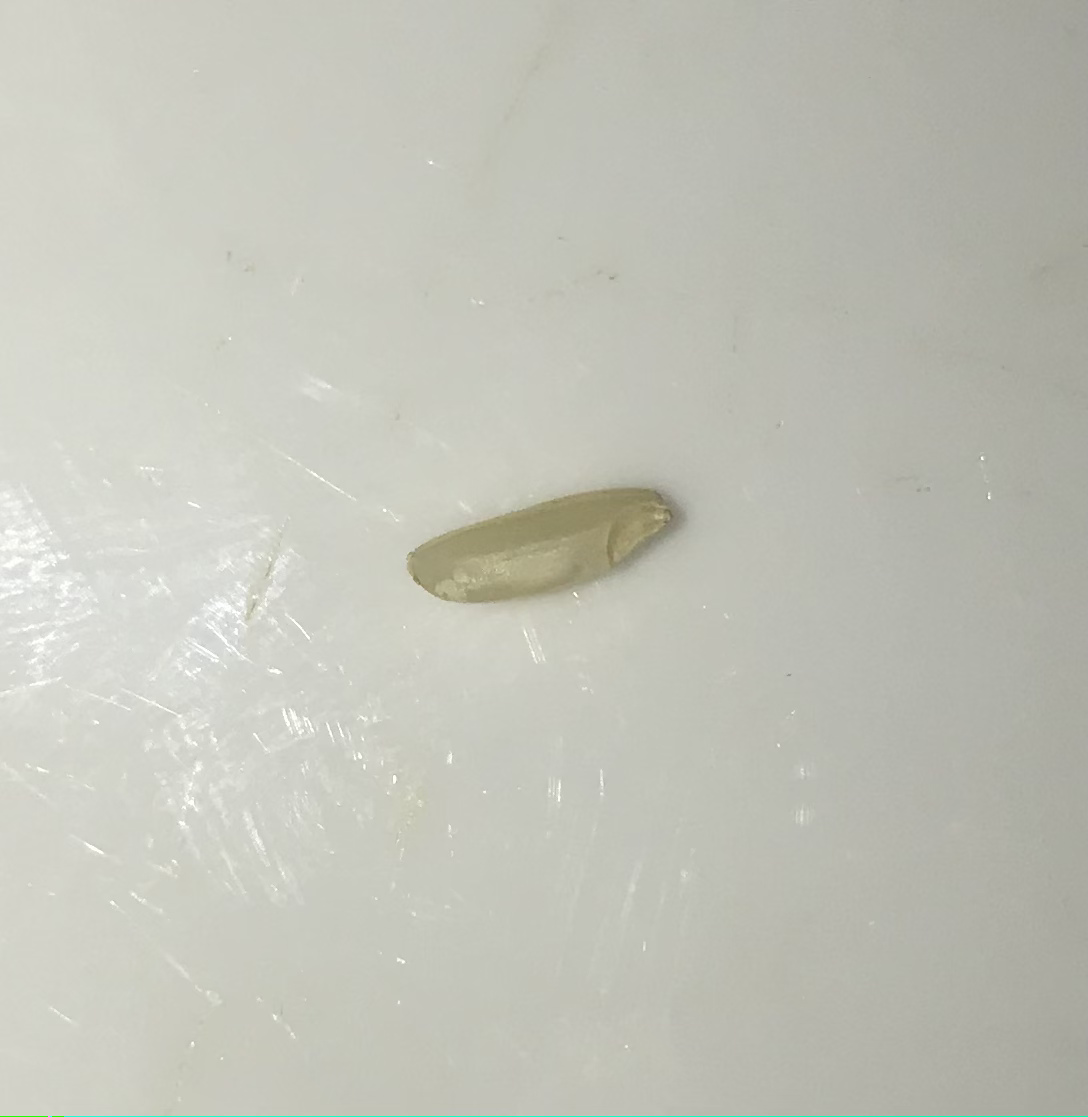Gao Lut Trang: (409, 466, 697, 646)
